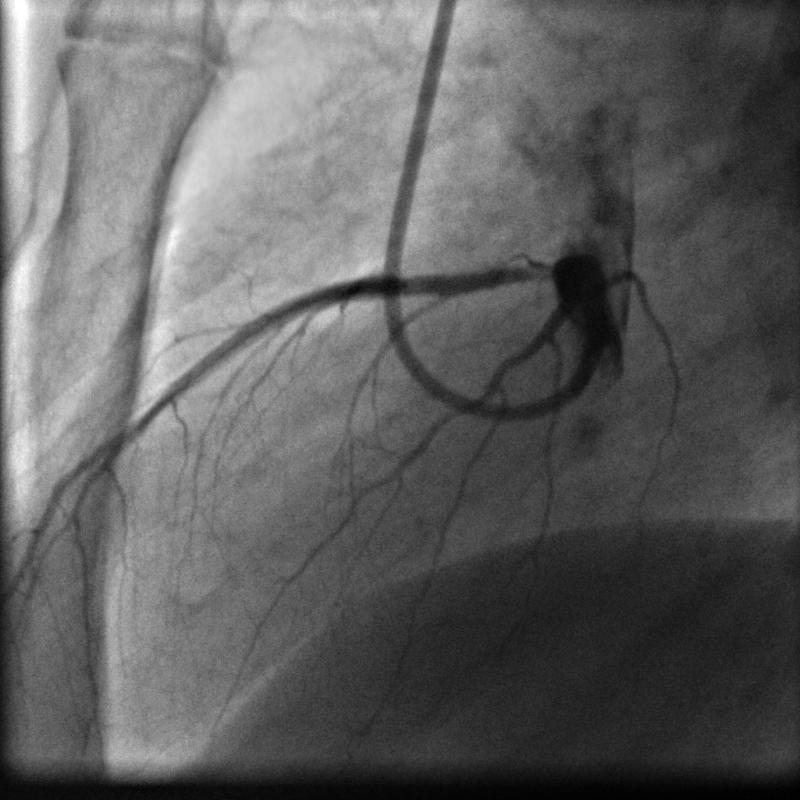Stenosis: (392, 269, 415, 299)
